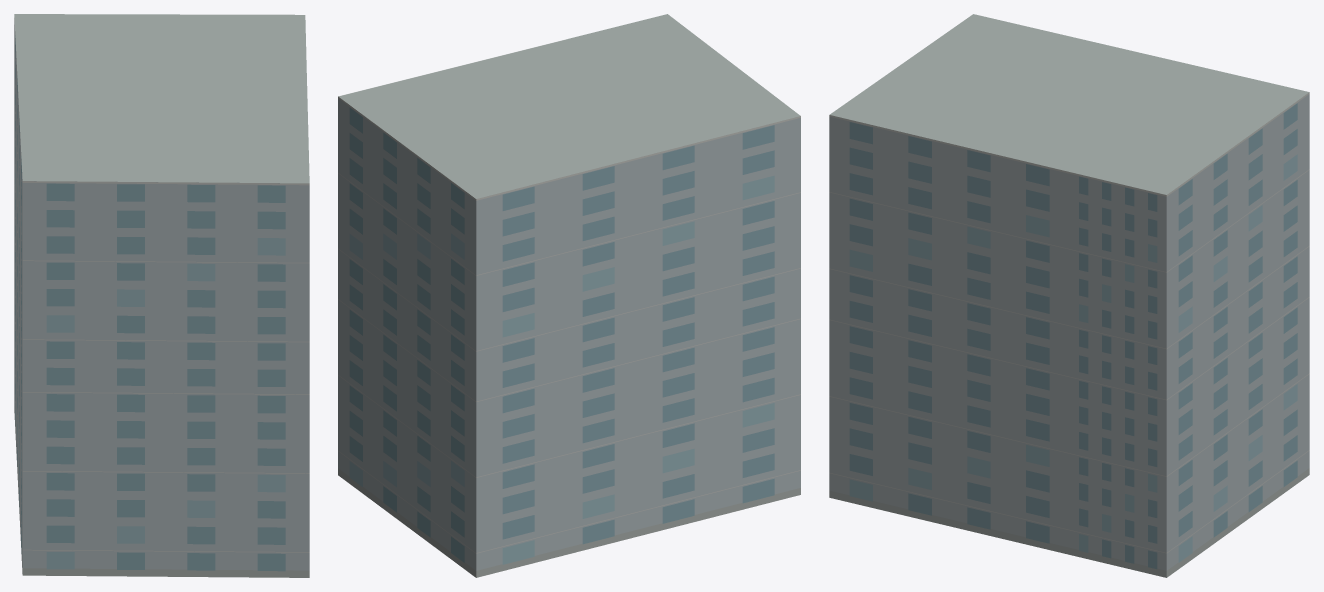
The model's file is residential-6578fb0f-e295-4642-8718-13845f76fee0.glb.
3 views of the same model, side by side, from view 1: azimuth 30°, elevation 25°; view 2: azimuth 150°, elevation 25°; view 3: azimuth 270°, elevation 25° (orthographic). The views are drawn at different scales.
Visible parts, largest first — view 1: residential-6578fb0f-e295-4642-8718-13845f76fee0.tmp; view 2: residential-6578fb0f-e295-4642-8718-13845f76fee0.tmp; view 3: residential-6578fb0f-e295-4642-8718-13845f76fee0.tmp.
Part boxes in pixels (<box>): residential-6578fb0f-e295-4642-8718-13845f76fee0.tmp: <box>14,14,309,577</box>; residential-6578fb0f-e295-4642-8718-13845f76fee0.tmp: <box>338,14,800,577</box>; residential-6578fb0f-e295-4642-8718-13845f76fee0.tmp: <box>829,14,1309,577</box>.
Bounding box in the file's own units: 52.76 × 52 × 59.12.
